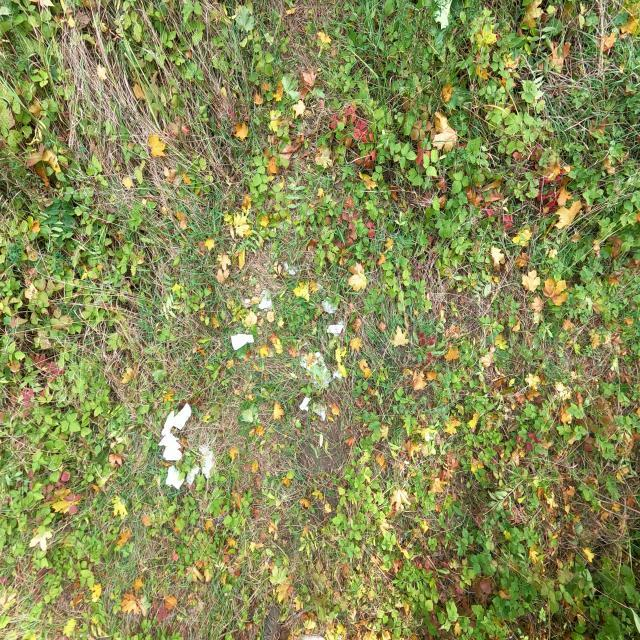rubbish: (305, 249, 342, 289), (448, 204, 480, 238), (313, 218, 342, 247), (457, 179, 483, 208), (454, 147, 476, 175), (425, 161, 442, 197), (187, 608, 206, 639), (385, 288, 410, 308), (301, 324, 322, 345), (439, 154, 455, 178), (295, 303, 315, 321), (366, 328, 382, 348), (340, 365, 360, 381), (311, 0, 345, 7)
